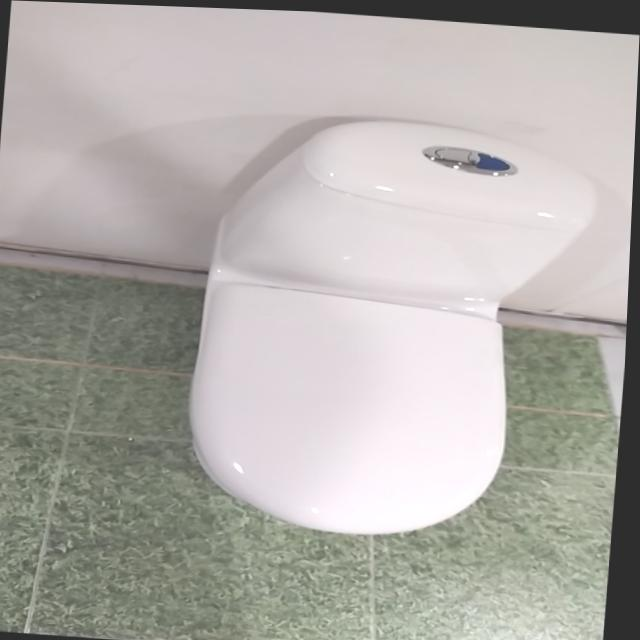toilet: (182, 103, 607, 546)
